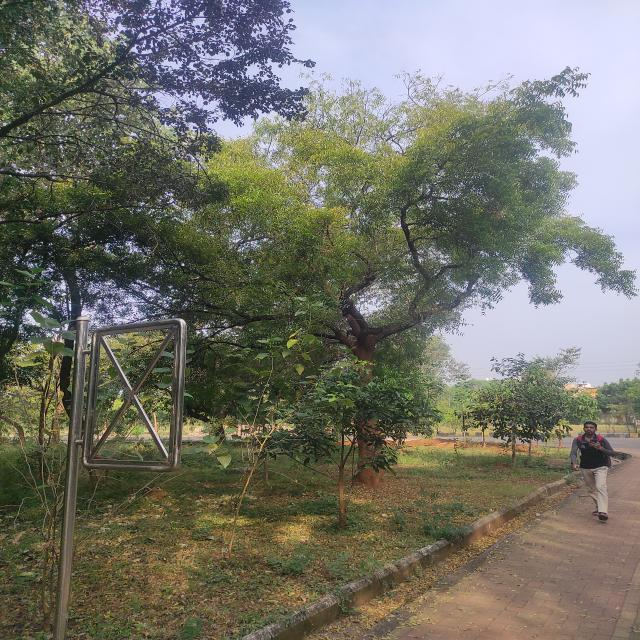Devakanchan tree: (1, 55, 201, 279)
Neem Tree: (230, 69, 564, 424)
